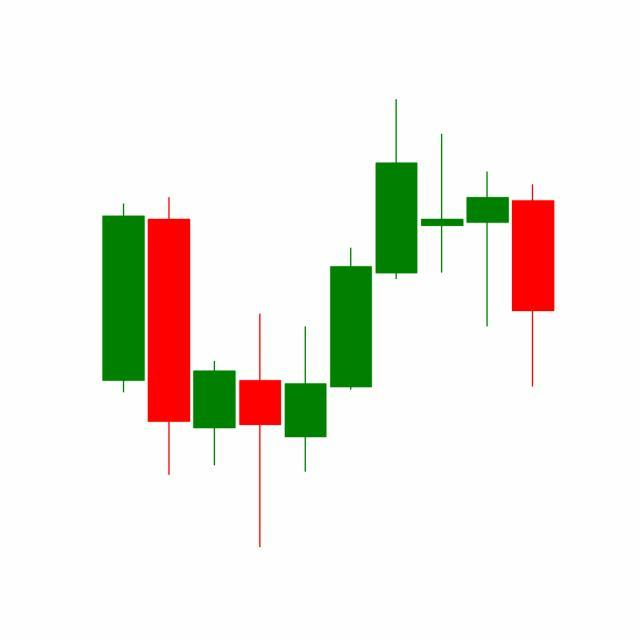Hikkake Pattern: (283, 100, 512, 477)
